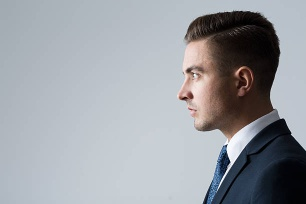male: (171, 27, 251, 137)
